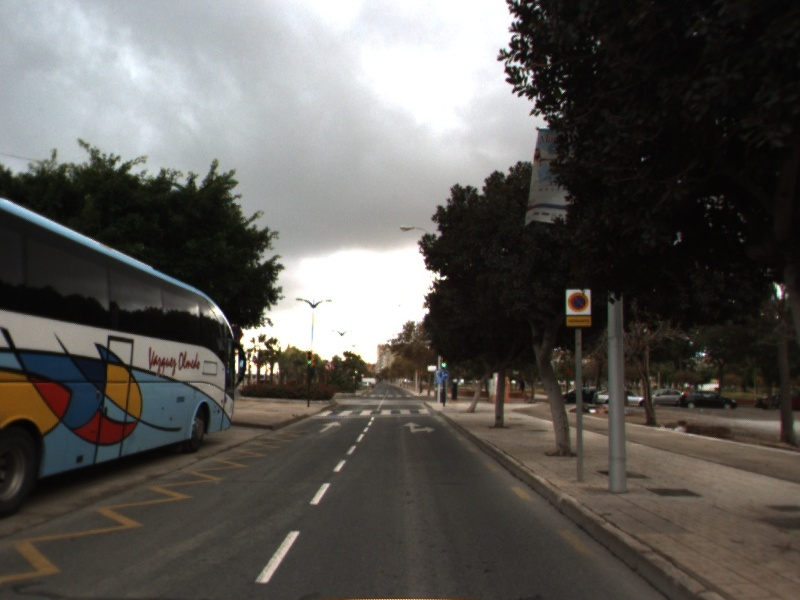STRAIGHT: (316, 419, 345, 434)
STRAIGHT_RIGHT: (401, 420, 438, 434)
